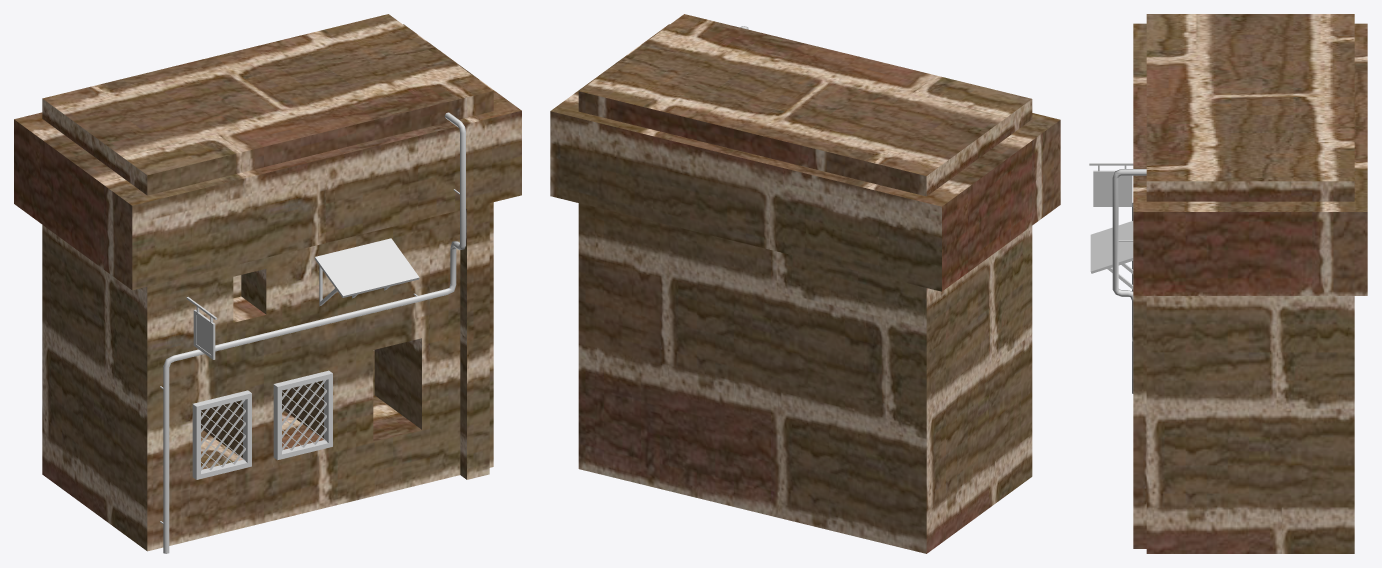
Rendered from alleybuilding1.FBX.
The picture shows the model from 3 angles, left to right: view 1: azimuth 30°, elevation 25°; view 2: azimuth 150°, elevation 25°; view 3: azimuth 270°, elevation 25°; orthographic projection.
Visible parts, largest first — view 1: building, window, pole, frame, sign; view 2: building; view 3: building, frame, pole, sign.
Boxes of the visible parts, x1,y1,x2,y2 form: building: [14, 14, 521, 551]; window: [192, 370, 332, 479]; pole: [160, 112, 465, 553]; frame: [315, 238, 419, 306]; sign: [186, 297, 217, 359]; building: [550, 14, 1060, 553]; building: [1133, 14, 1367, 553]; frame: [1090, 221, 1133, 289]; pole: [1112, 169, 1146, 393]; sign: [1089, 163, 1133, 206].
Bounding box in the file's own units: 154 × 142 × 95.89.
1 material, 1 textured.
